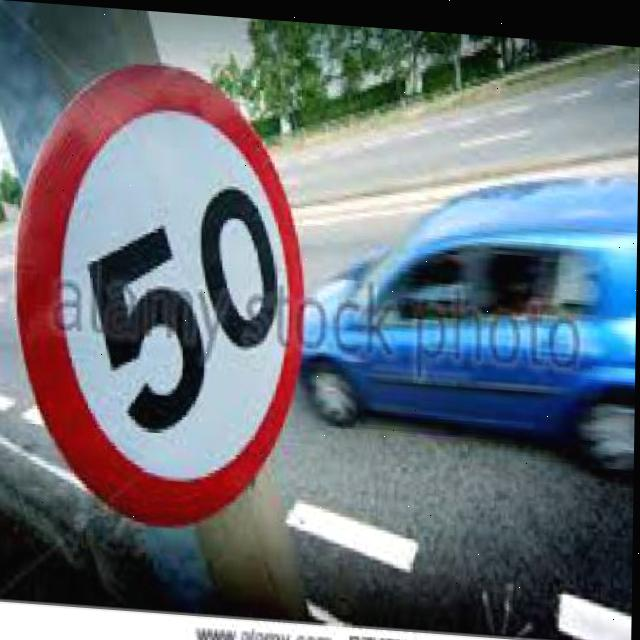Speed limit 50: (9, 50, 314, 536)
